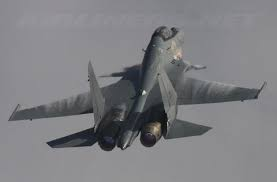maybay_muctieu: (12, 25, 259, 151)
